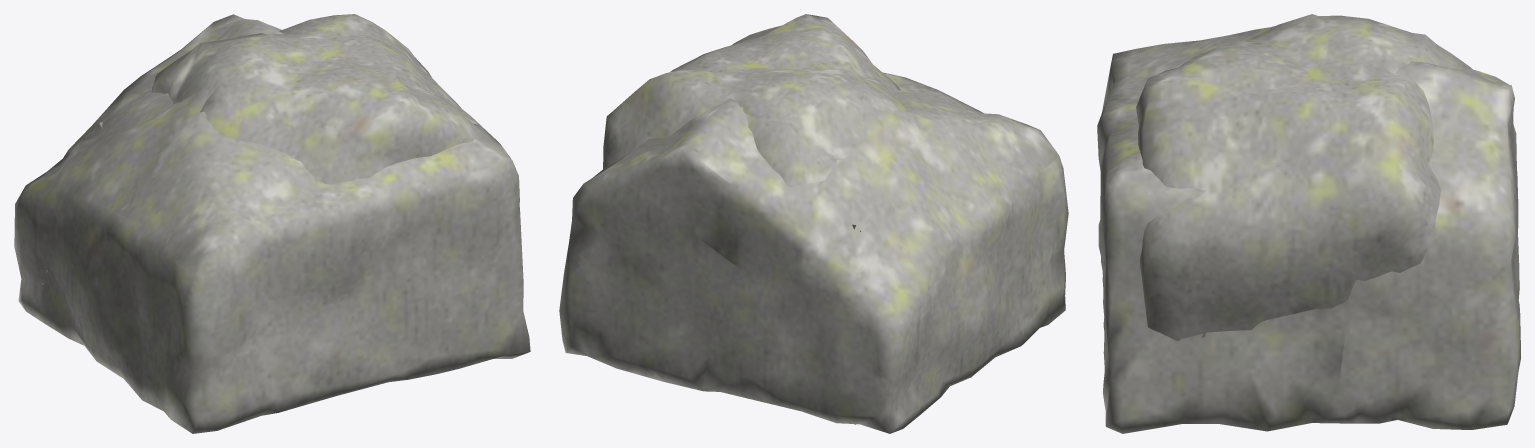
Rendered from granite.glb.
3 views of the same model, side by side, from view 1: azimuth 30°, elevation 25°; view 2: azimuth 150°, elevation 25°; view 3: azimuth 270°, elevation 25° (orthographic). The views are drawn at different scales.
Visible parts, largest first — view 1: boulder_block_13, boulder_boulder_15; view 2: boulder_block_13, boulder_boulder_15; view 3: boulder_block_13, boulder_boulder_15.
Boxes of the visible parts, box(x1,y1,x2,y2) form: boulder_block_13: box(14, 14, 530, 433); boulder_boulder_15: box(33, 14, 519, 301); boulder_block_13: box(559, 72, 1068, 433); boulder_boulder_15: box(603, 14, 939, 386); boulder_block_13: box(1097, 26, 1520, 433); boulder_boulder_15: box(1136, 14, 1472, 341).
Size of what is drawn, in the model's own units: 4.87 by 3.55 by 4.31.
Materials: 1 (1 with a texture image).
